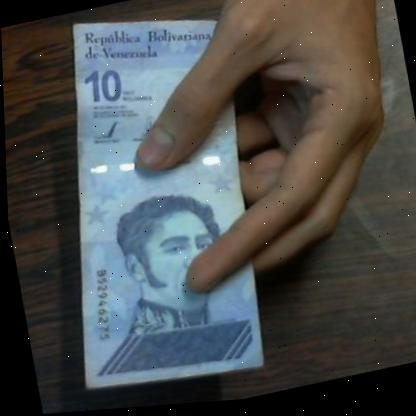ten-front-vef: (21, 0, 283, 409)
